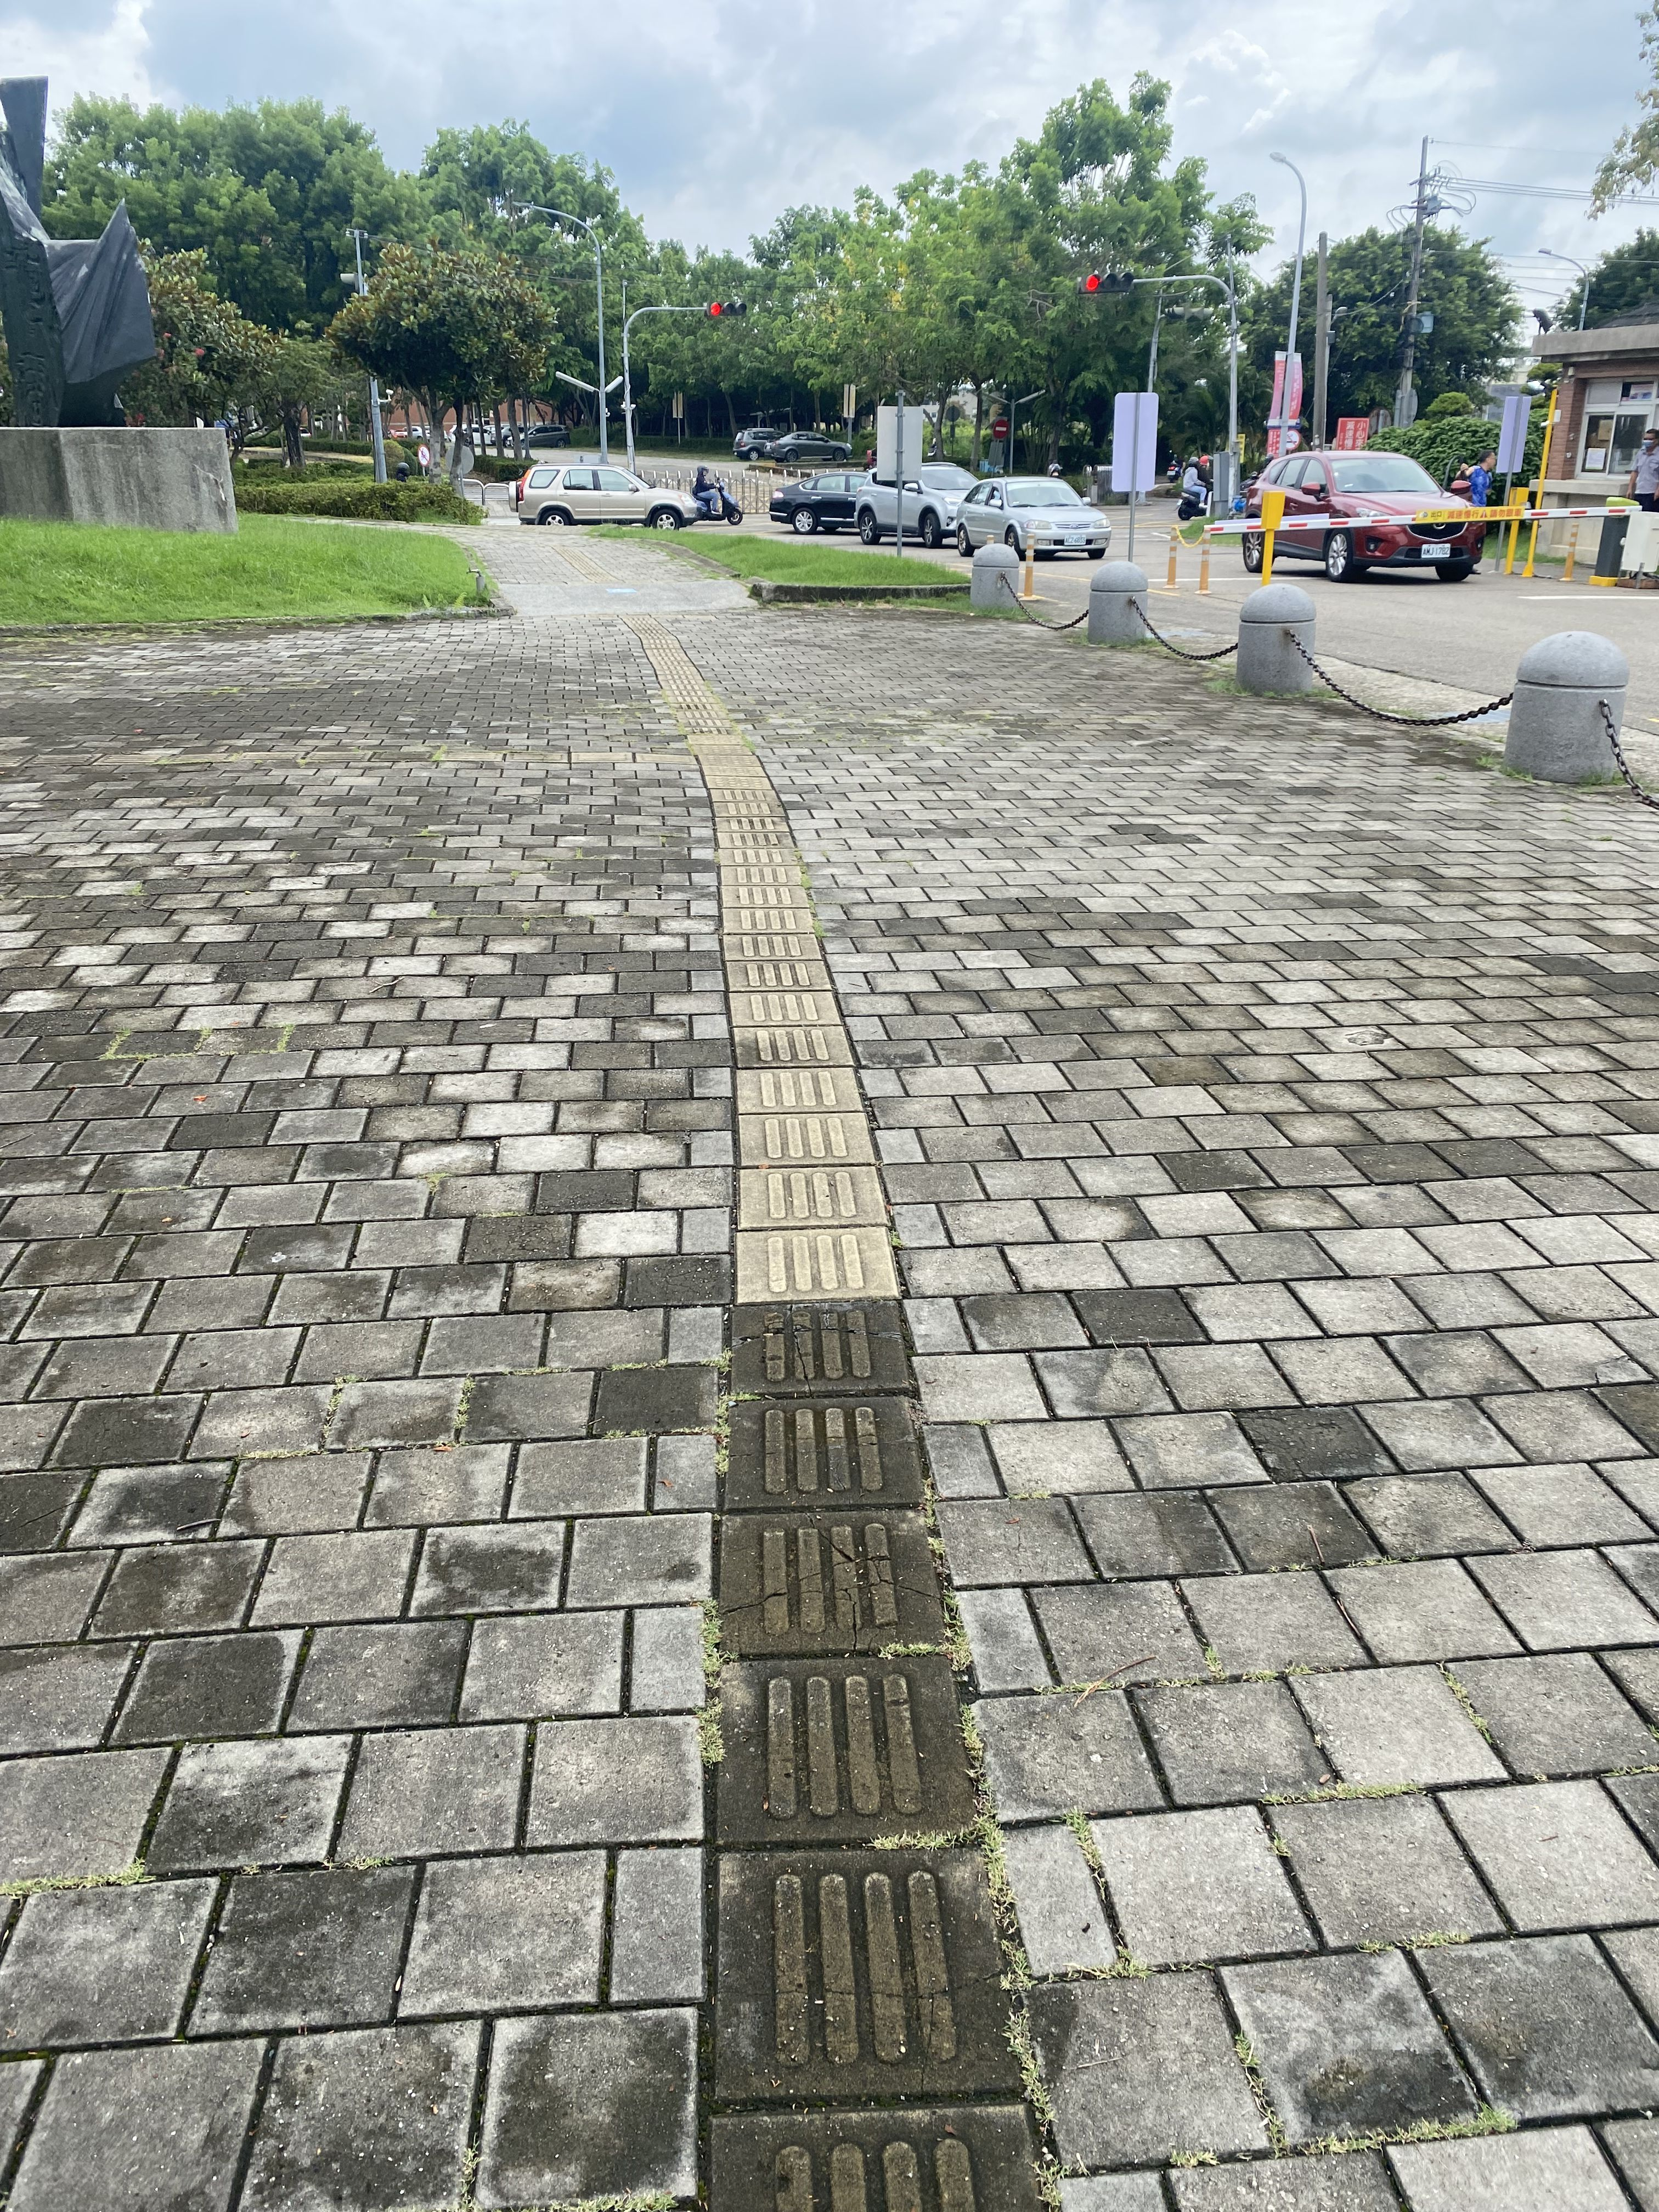sidewalk: (7, 502, 1659, 2212)
